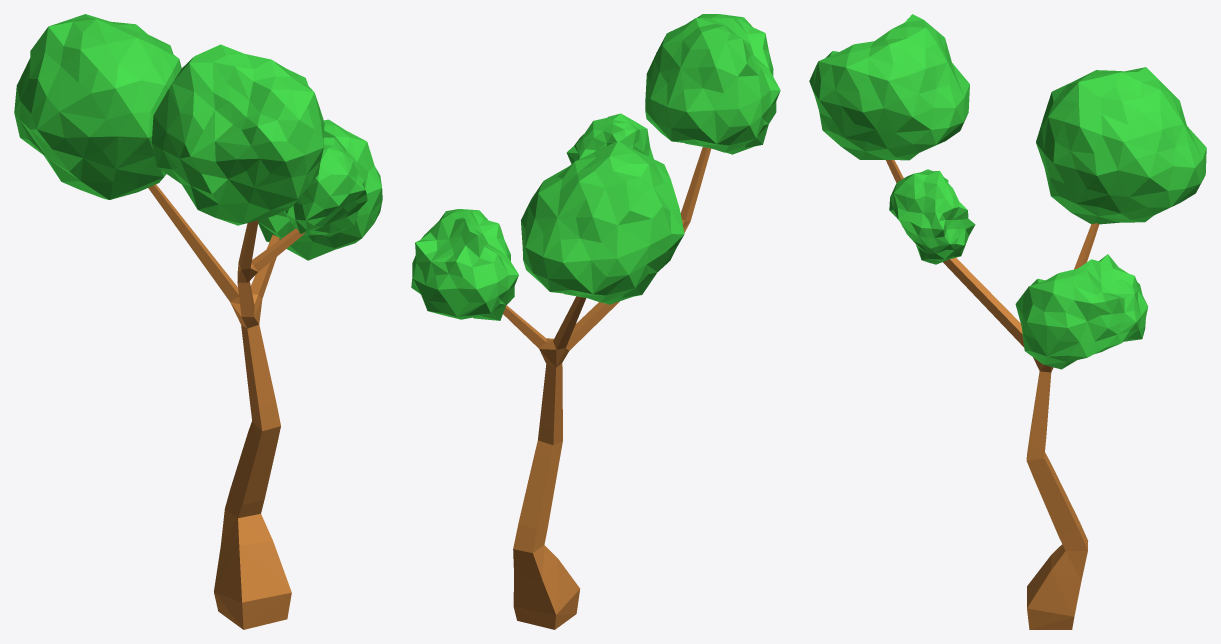
The model's file is tree2.fbx.
3 views of the same model, side by side, from view 1: azimuth 30°, elevation 25°; view 2: azimuth 150°, elevation 25°; view 3: azimuth 270°, elevation 25° (orthographic). The views are drawn at different scales.
Parts seen in each view (by area): view 1: Icosphere.002, Icosphere, Cube, Icosphere.004, Icosphere.003; view 2: Icosphere, Icosphere.002, Cube, Icosphere.003, Icosphere.004; view 3: Icosphere, Icosphere.002, Icosphere.003, Cube, Icosphere.004.
Boxes of the visible parts, left/top/right/bottom form: Icosphere.002: left=151, top=44, right=324, bottom=225; Icosphere: left=14, top=14, right=181, bottom=199; Cube: left=148, top=184, right=305, bottom=629; Icosphere.004: left=284, top=137, right=367, bottom=236; Icosphere.003: left=258, top=119, right=382, bottom=260; Icosphere: left=521, top=141, right=684, bottom=304; Icosphere.002: left=645, top=14, right=780, bottom=154; Cube: left=503, top=147, right=710, bottom=629; Icosphere.003: left=411, top=209, right=518, bottom=320; Icosphere.004: left=566, top=113, right=653, bottom=163; Icosphere: left=1036, top=67, right=1206, bottom=224; Icosphere.002: left=809, top=14, right=969, bottom=160; Icosphere.003: left=1015, top=254, right=1148, bottom=369; Cube: left=886, top=160, right=1099, bottom=629; Icosphere.004: left=889, top=169, right=975, bottom=264.
Bounding box in the file's own units: 246 × 482 × 316.
